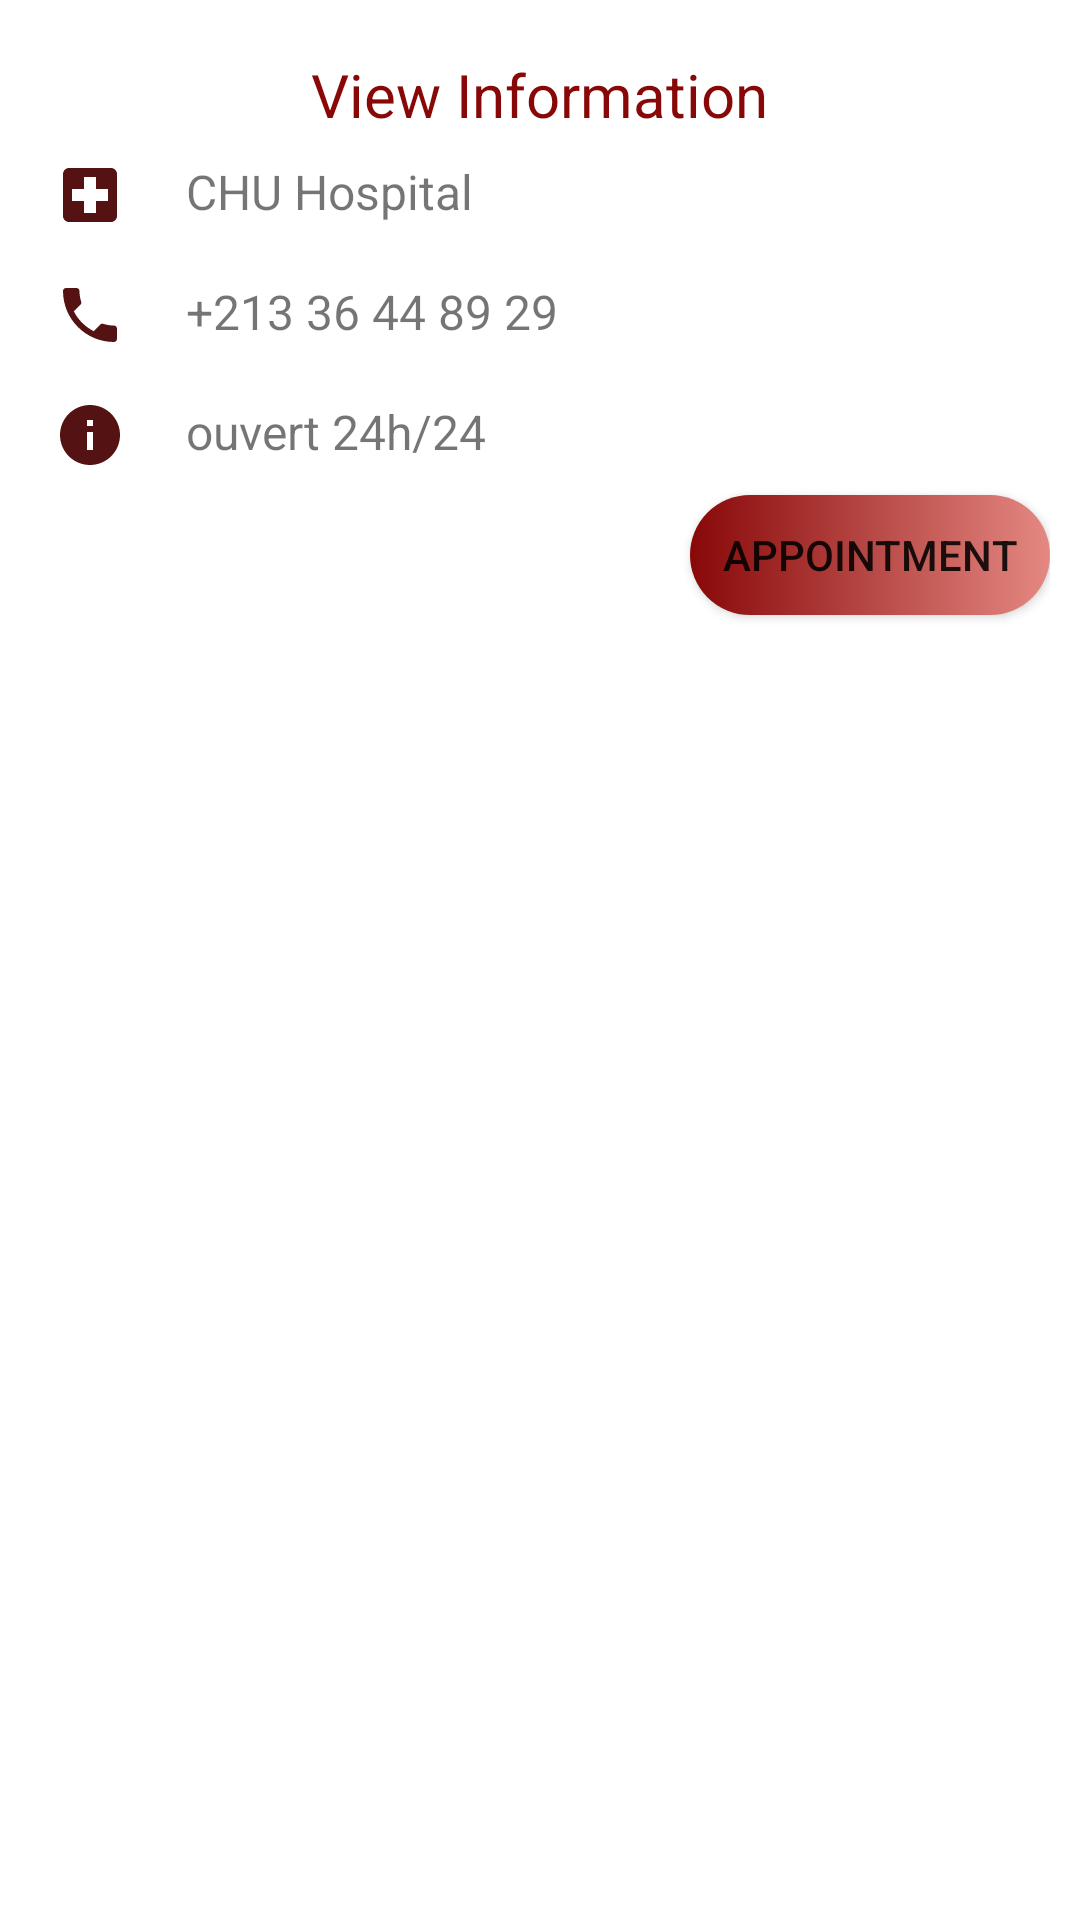

Named icons in this screenshot (1080x1920) and their bounding boxes, (x1, y1, x2, y2):
info: (60, 405, 120, 465)
local hospital: (63, 168, 117, 222)
local phone: (63, 288, 117, 342)
